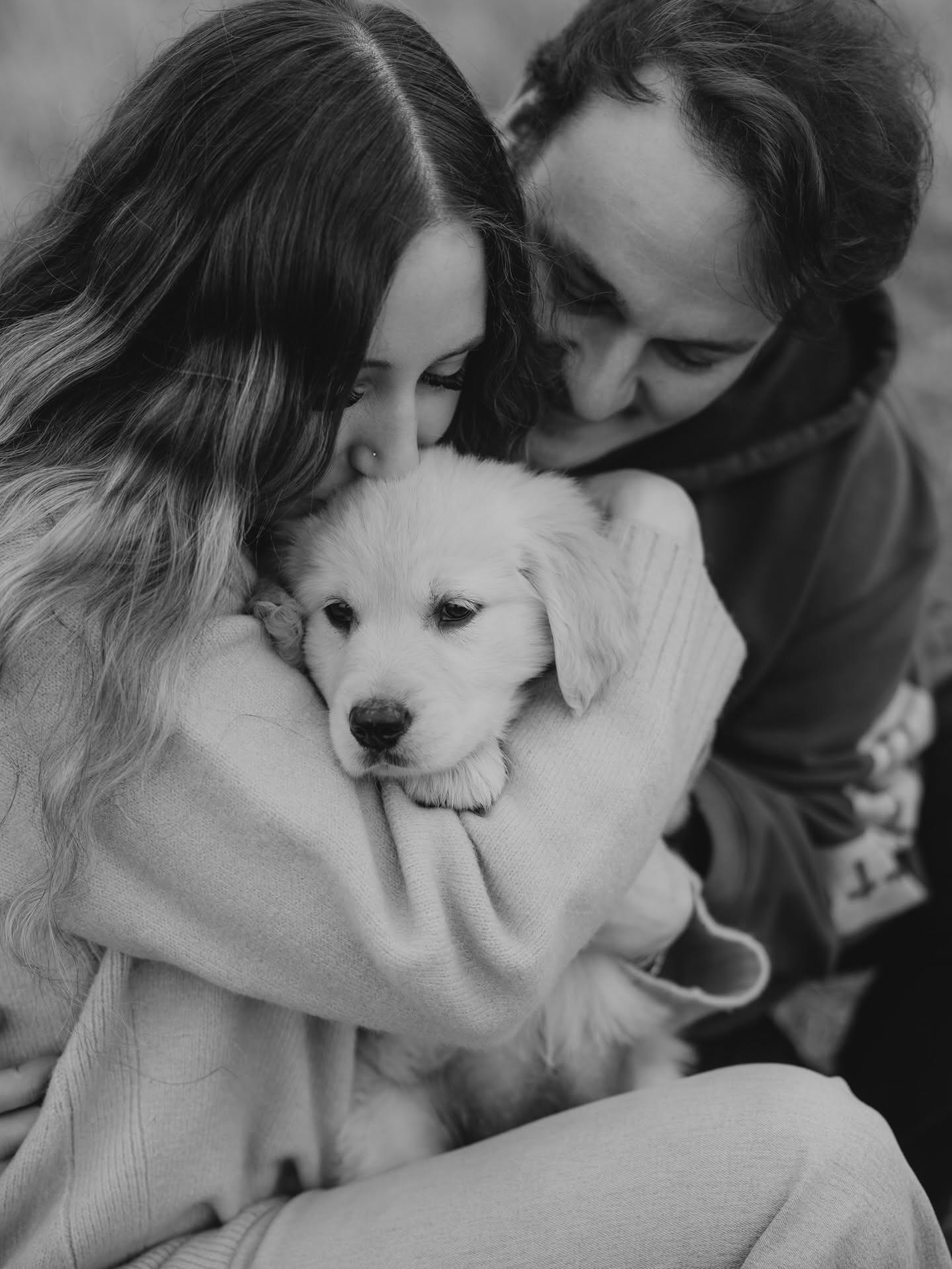non-dog: (0, 0, 950, 1268), (493, 0, 952, 1208)
puppy-dog: (239, 446, 703, 1188)
